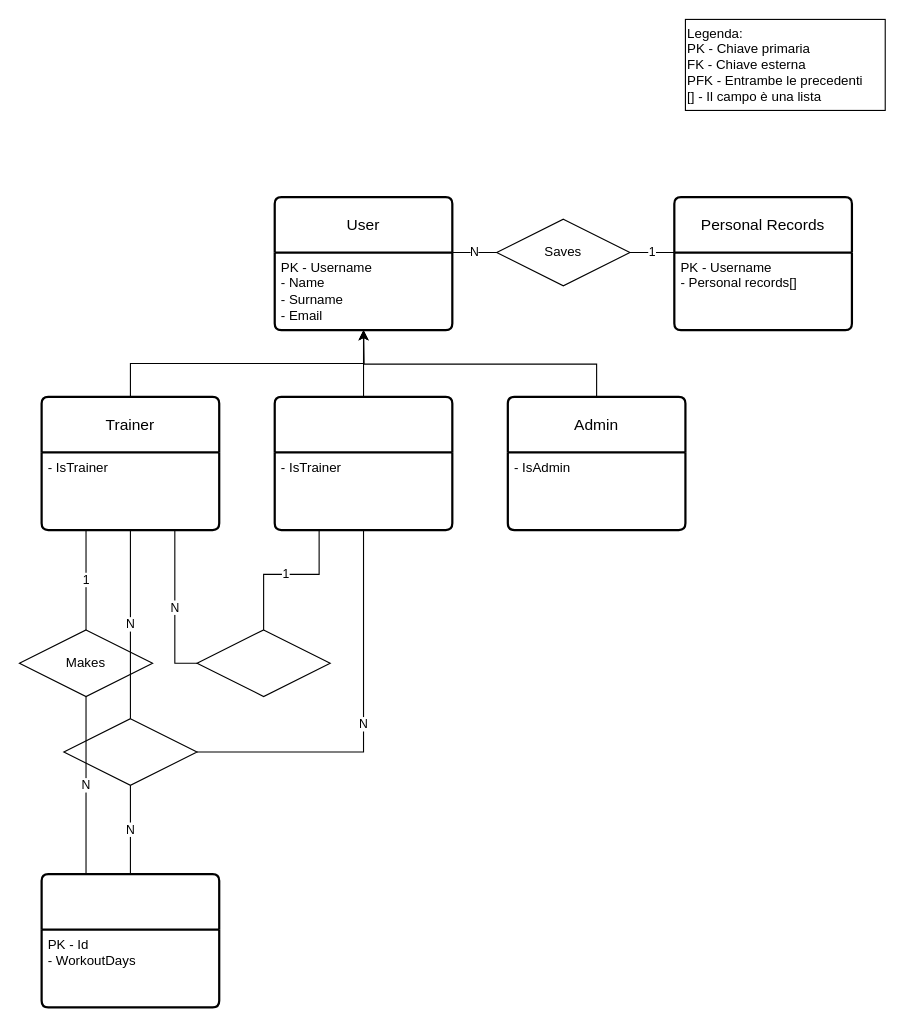
Some shapes in this 905 by 1028 pixel diagram are drawn without their labels. The box of each missing label's shape, as (x1, y1, x2, y2) in pixels:
Subscribes: (196, 629, 330, 697)
Trained: (273, 395, 453, 531)
Uses: (63, 718, 197, 785)
Workout Plan: (40, 872, 220, 1008)
